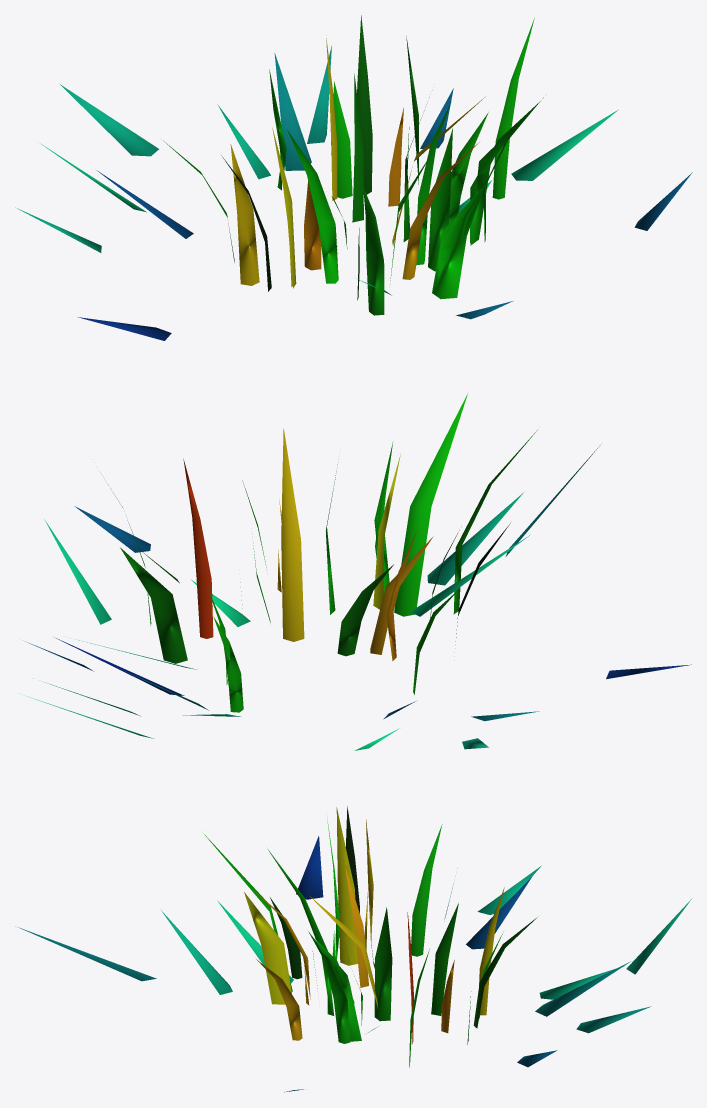
Rendered from sparse.glb.
3 renders of one model, top to bottom at view 1: azimuth 30°, elevation 25°; view 2: azimuth 150°, elevation 25°; view 3: azimuth 270°, elevation 25°, orthographic. The views are drawn at different scales.
Visible parts, largest first — view 1: sparse_0_0, sparse_1_1, sparse_1_0, sparse_0_1; view 2: sparse_0_1, sparse_0_0, sparse_1_0, sparse_1_1; view 3: sparse_1_1, sparse_0_0, sparse_1_0, sparse_0_1.
Part boxes in pixels (x1,y1,x2,y2): sparse_0_0: (163,18,692,315); sparse_1_1: (96,45,538,299); sparse_1_0: (15,15,537,300); sparse_0_1: (77,36,512,340); sparse_0_1: (26,393,691,738); sparse_0_0: (25,430,600,712); sparse_1_0: (78,441,539,750); sparse_1_1: (44,445,523,719); sparse_1_1: (161,807,651,1041); sparse_0_0: (15,806,630,1092); sparse_1_0: (256,809,691,1040); sparse_0_1: (204,834,471,1044).
Size of the model in its own units: 0.7036 by 0.2116 by 0.7919.
